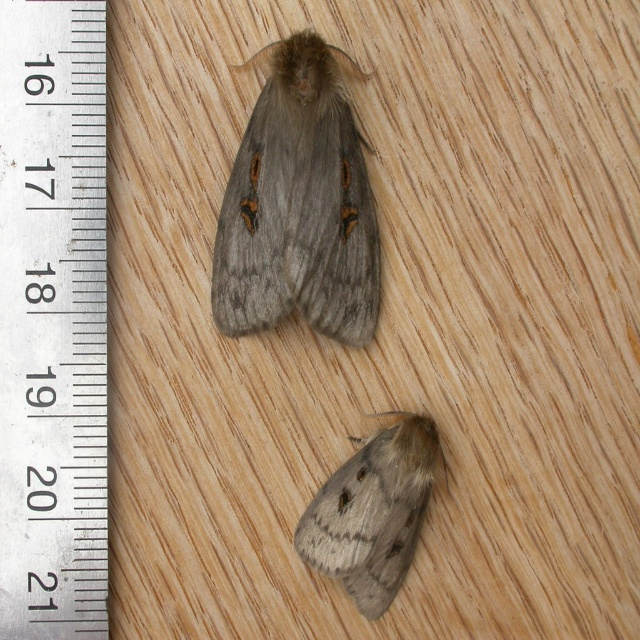Moths and butterflies: (206, 27, 384, 346), (293, 411, 451, 620)
